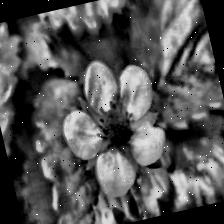Blossom Blight: (89, 95, 144, 158)
